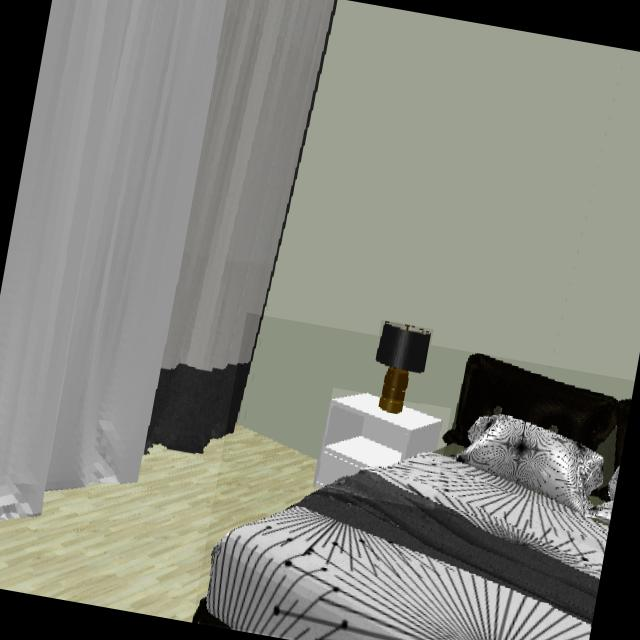bed: (192, 353, 620, 640)
lamp: (374, 321, 432, 416)
nighttable: (315, 394, 447, 489)
pillow: (455, 415, 602, 516)
